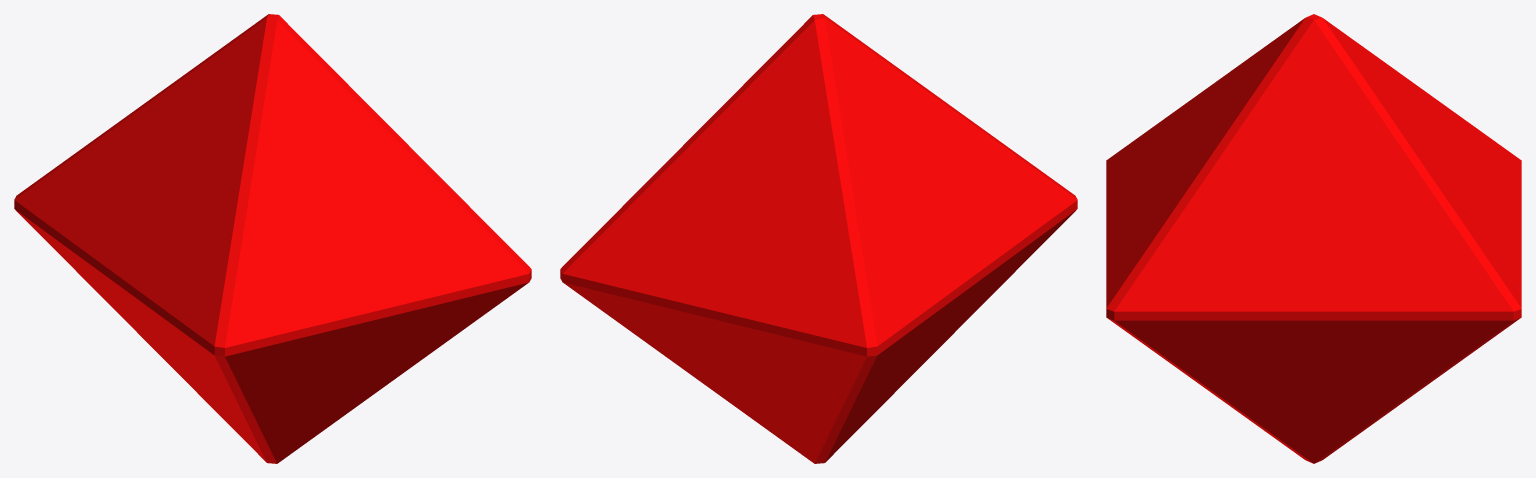
Rendered from Scout.FBX.
3 views of the same model, side by side, from view 1: azimuth 30°, elevation 25°; view 2: azimuth 150°, elevation 25°; view 3: azimuth 270°, elevation 25° (orthographic).
Parts seen in each view (by area): view 1: Scout; view 2: Scout; view 3: Scout.
Part boxes in pixels (<box>): Scout: <box>14,14,531,463</box>; Scout: <box>560,14,1077,463</box>; Scout: <box>1106,14,1521,463</box>.
Bounding box in the file's own units: 31.23 × 35.52 × 41.89.
